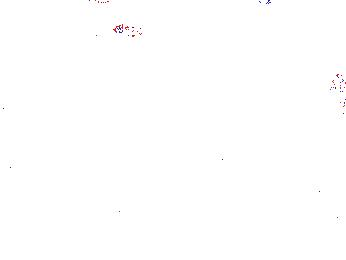X-ray fish: (326, 95, 346, 120)
red belly glassfish: (114, 20, 173, 39)
redtail glassfish: (215, 134, 235, 183)
siberian prawn: (36, 221, 110, 255)
